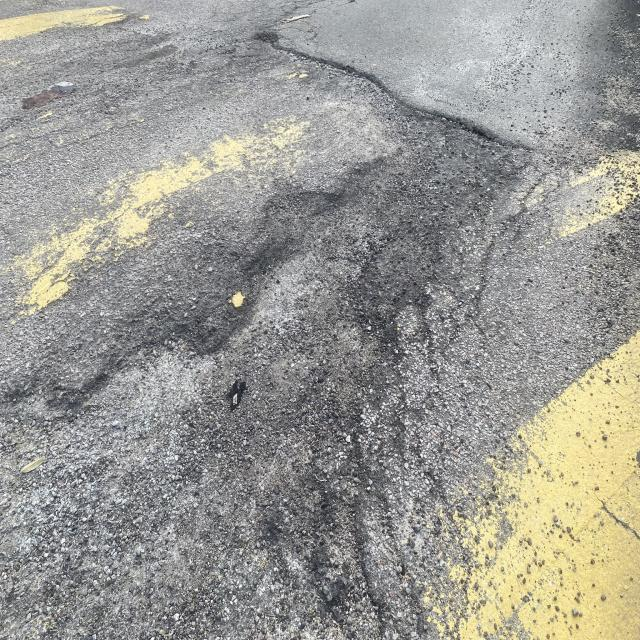Pothole: (221, 179, 421, 431), (248, 21, 506, 141)
